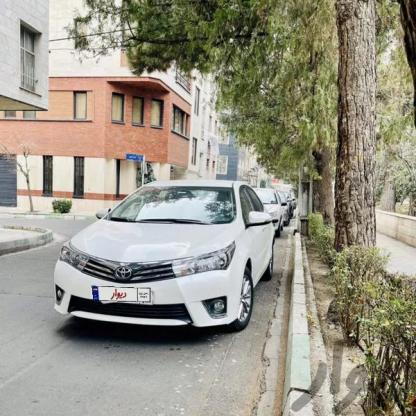Car: (40, 166, 261, 336), (231, 183, 299, 234)
